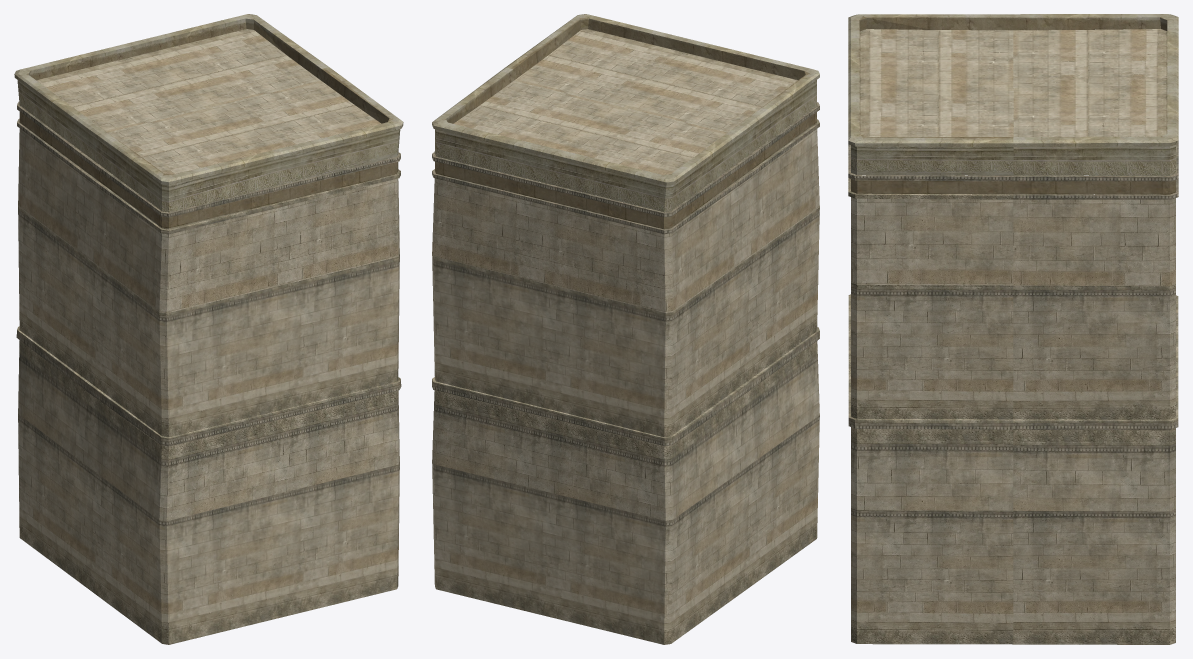
Rendered from TW2_5_HOUSE_04_6-transformed.glb.
The picture shows the model from 3 angles, left to right: view 1: azimuth 30°, elevation 25°; view 2: azimuth 150°, elevation 25°; view 3: azimuth 270°, elevation 25°; orthographic projection. The views are drawn at different scales.
Parts seen in each view (by area): view 1: default; view 2: default; view 3: default.
Part boxes in pixels (x1,y1,x2,y2): default: [14, 14, 403, 644]; default: [432, 14, 819, 644]; default: [848, 14, 1178, 644].
Bounding box in the file's own units: 6.82 × 12.43 × 7.37.
2 materials, 2 textured.
